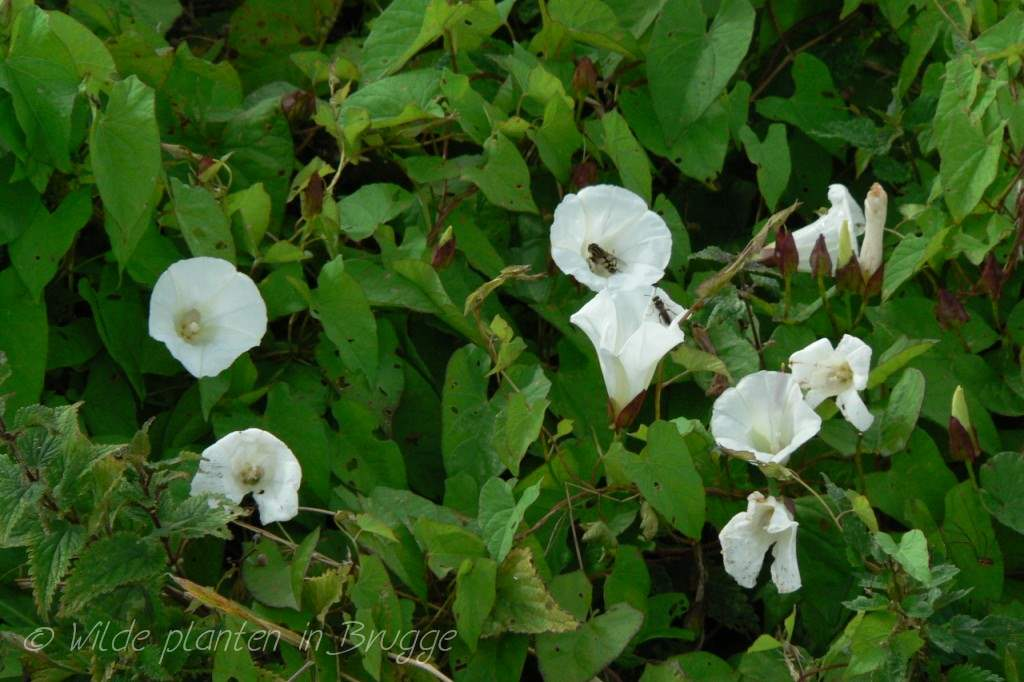haagwinde: (710, 344, 877, 601), (551, 186, 703, 423), (424, 336, 554, 518), (134, 240, 284, 390), (618, 1, 772, 143), (172, 423, 333, 557), (762, 168, 901, 309), (72, 66, 180, 240), (607, 414, 707, 549)
